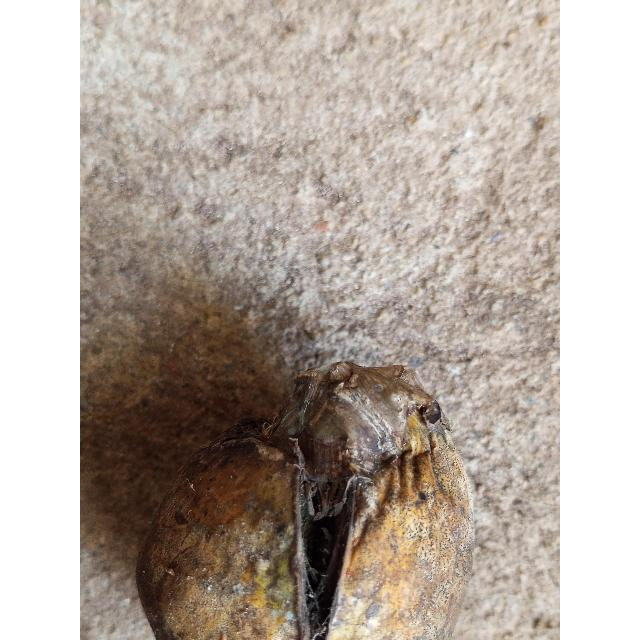damaged: (137, 362, 474, 640)
